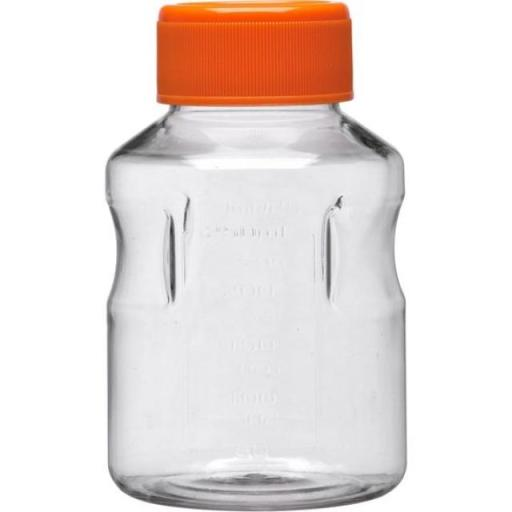plastic: (104, 0, 406, 507)
